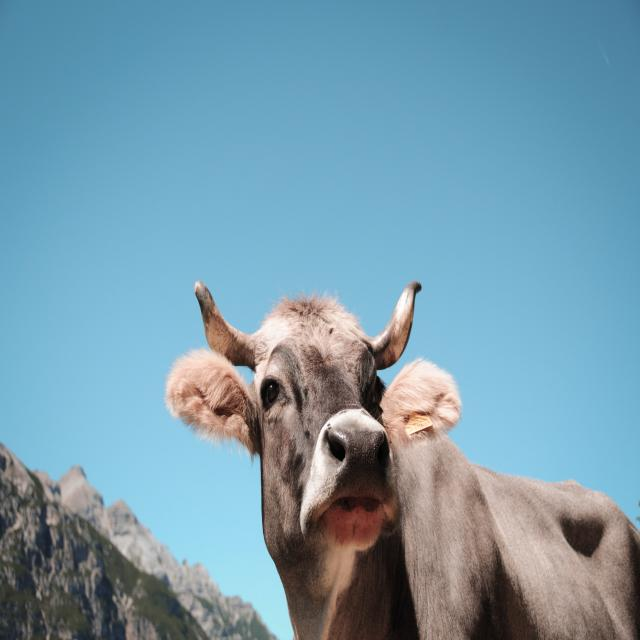cow: (166, 280, 640, 638)
